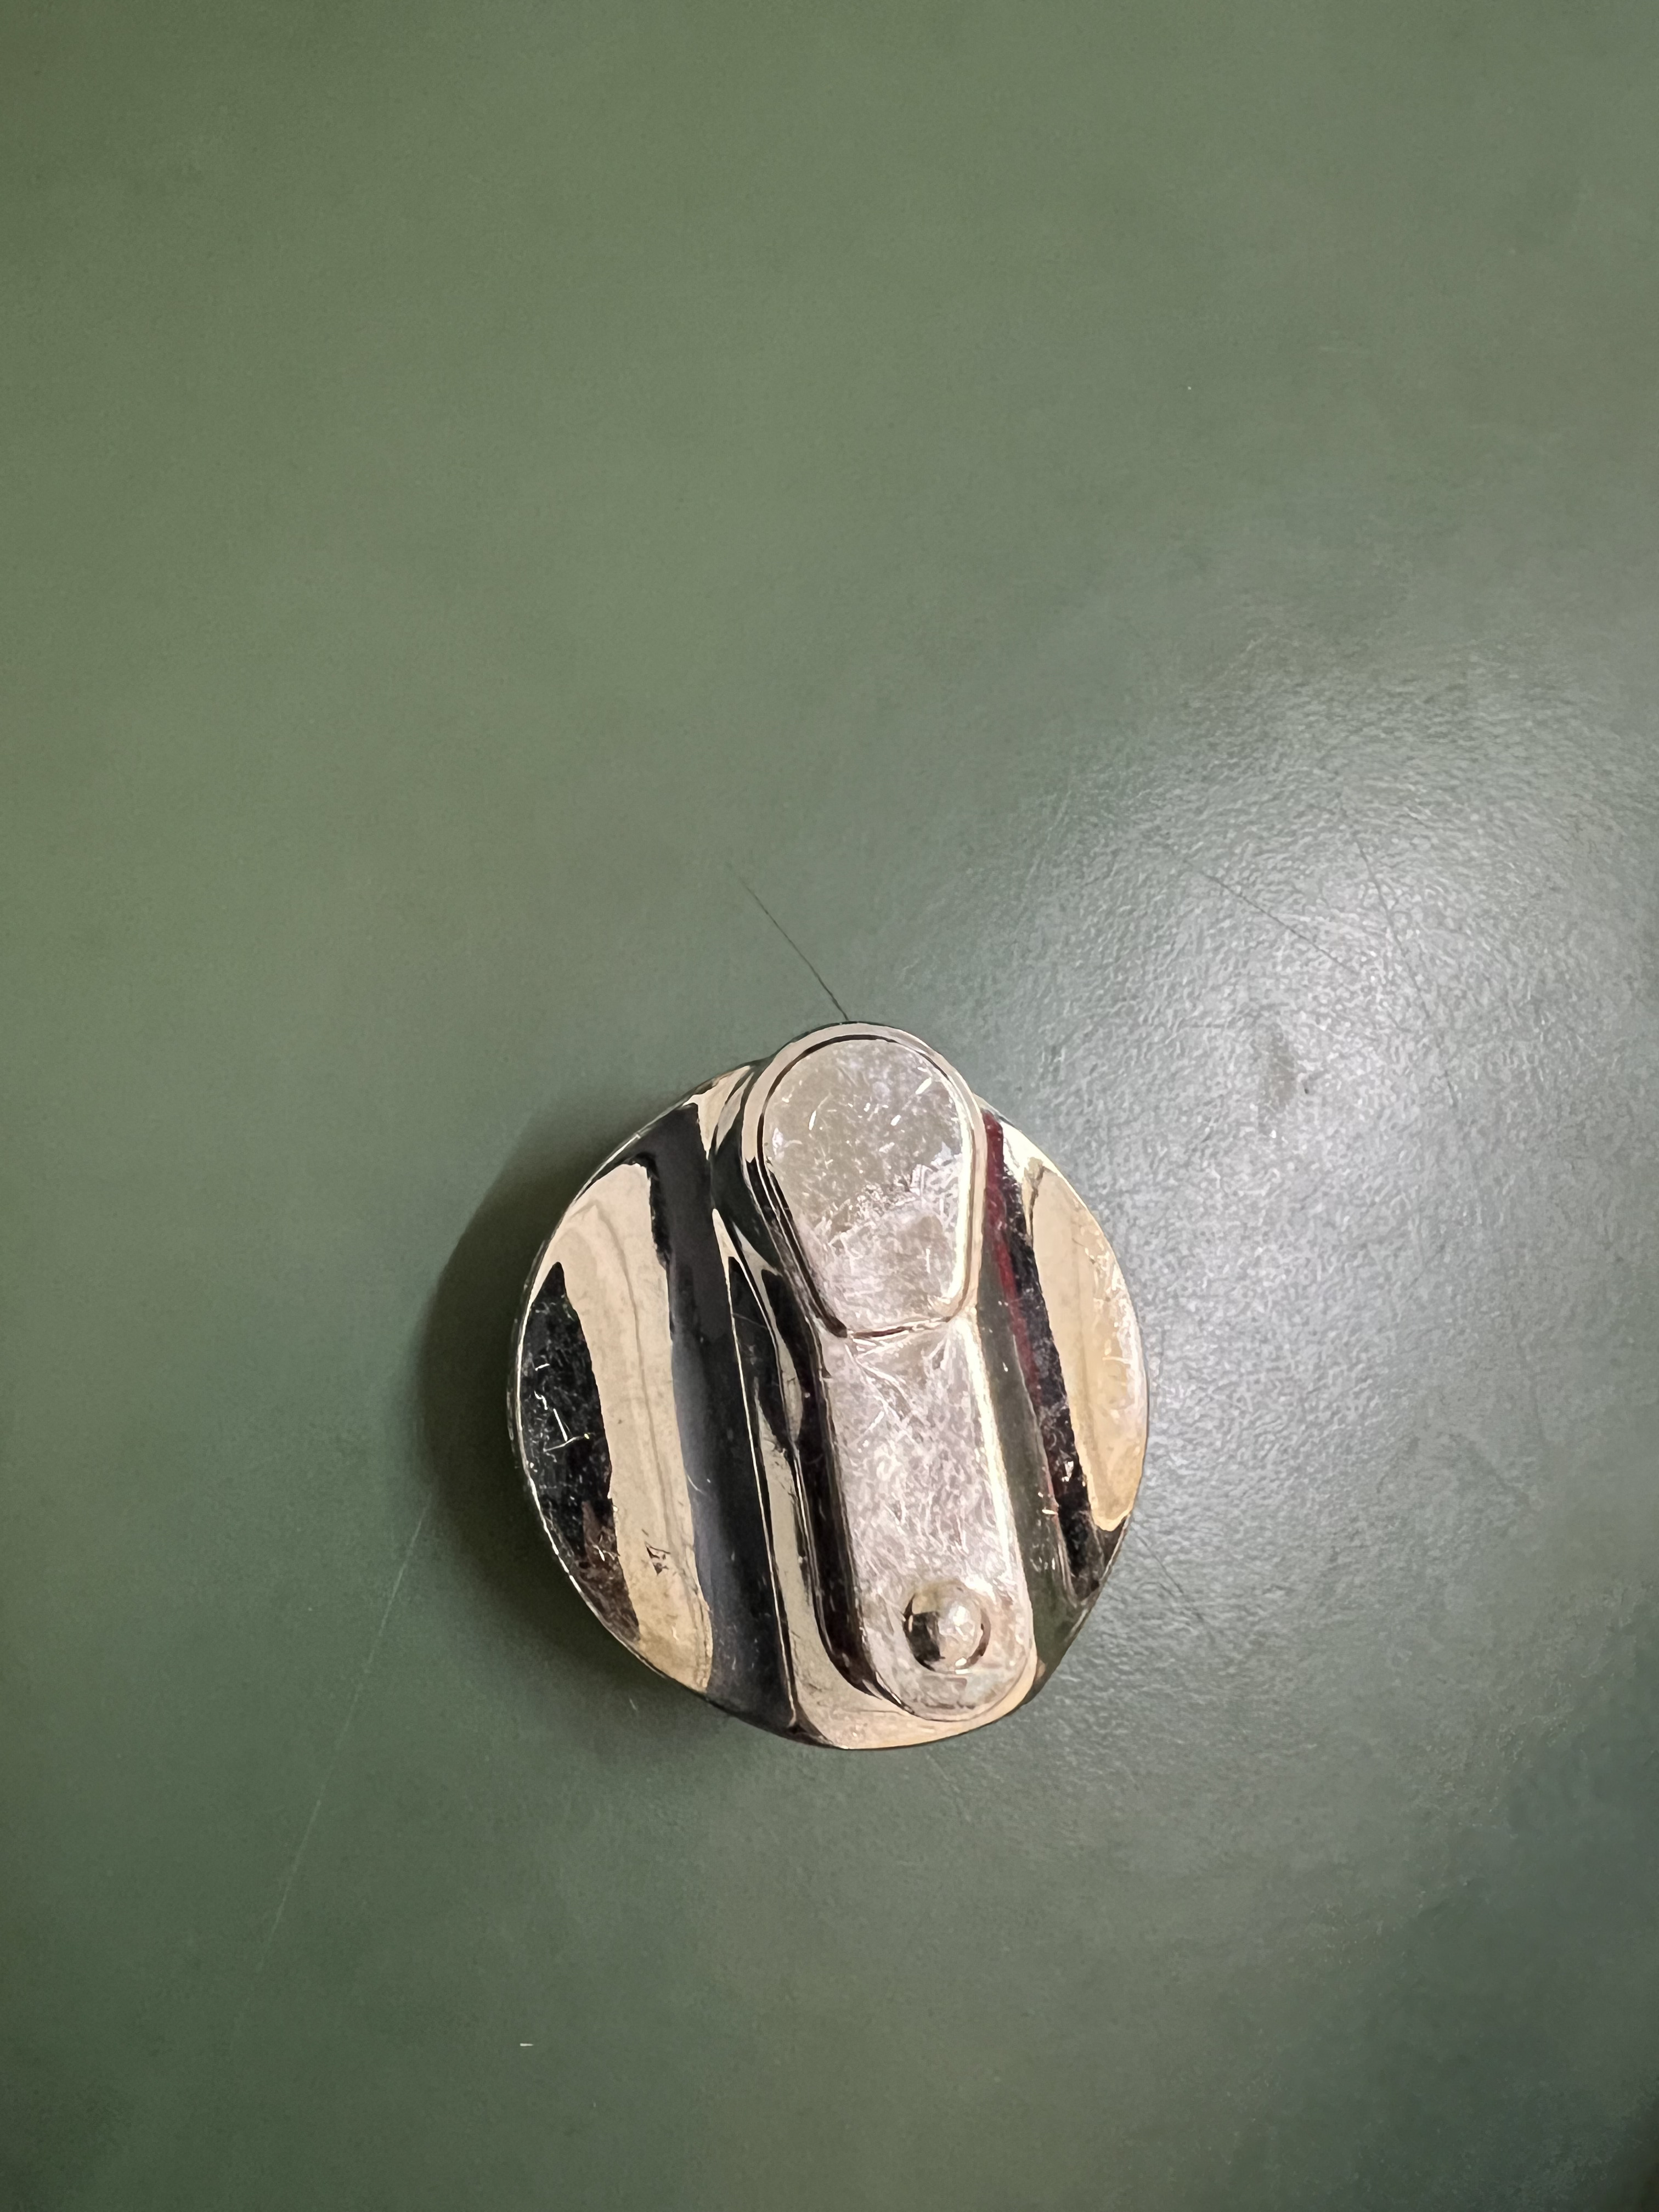regulator: (495, 995, 1183, 1791)
